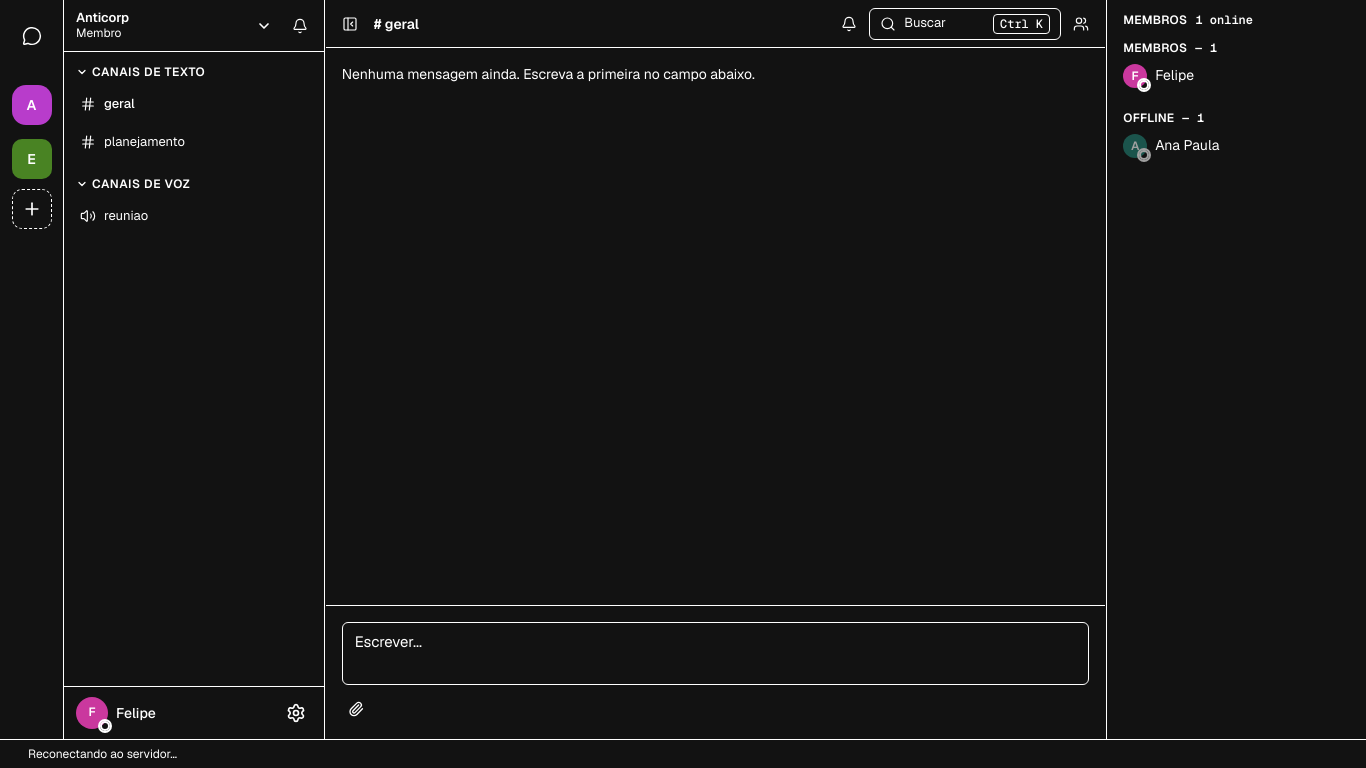
it: paleta de comandos › quem divide dois grupos comigo aparece uma vez só
This screenshot has width=1366, height=768.
Type keys "{Control>}k{/Control}"
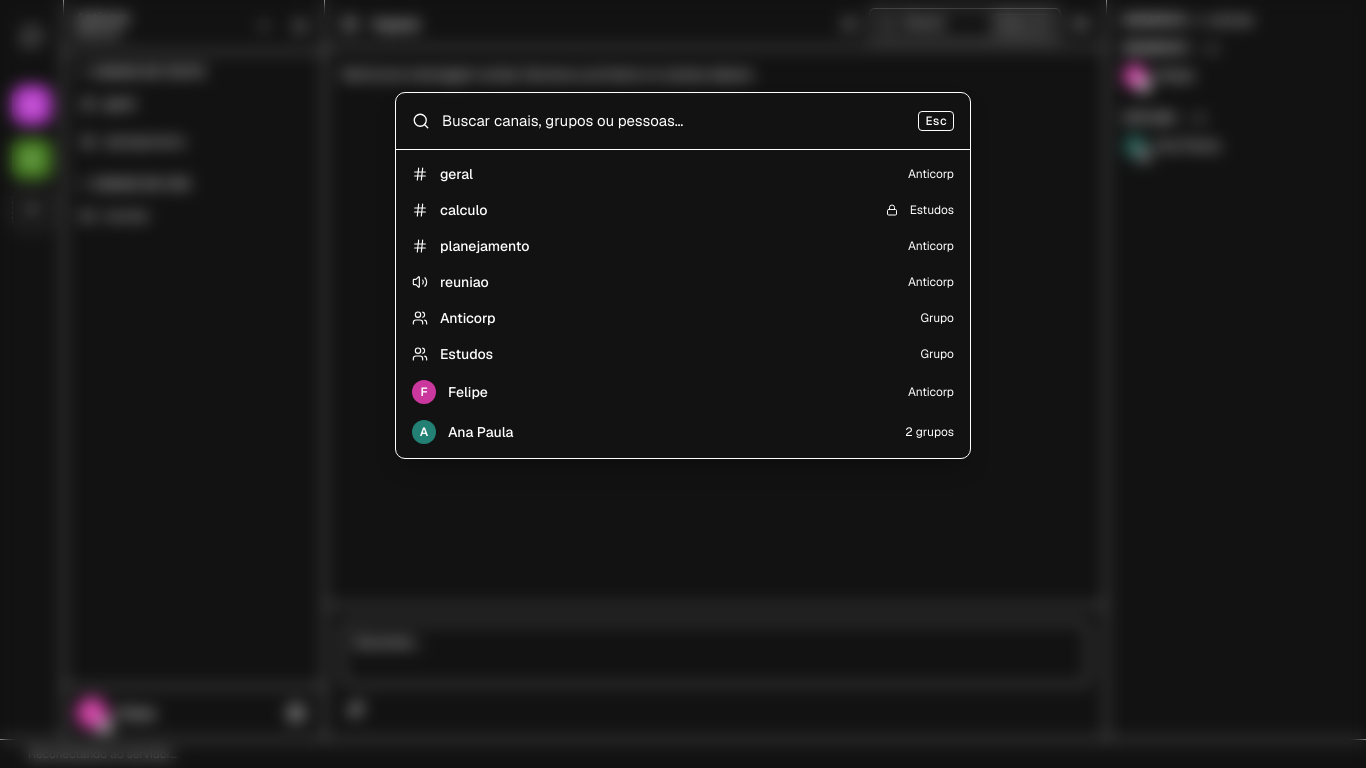
Type "ana" into the dropdown labelled "Buscar canais, grupos ou pessoas" at (674, 121), box [442, 93, 906, 149]
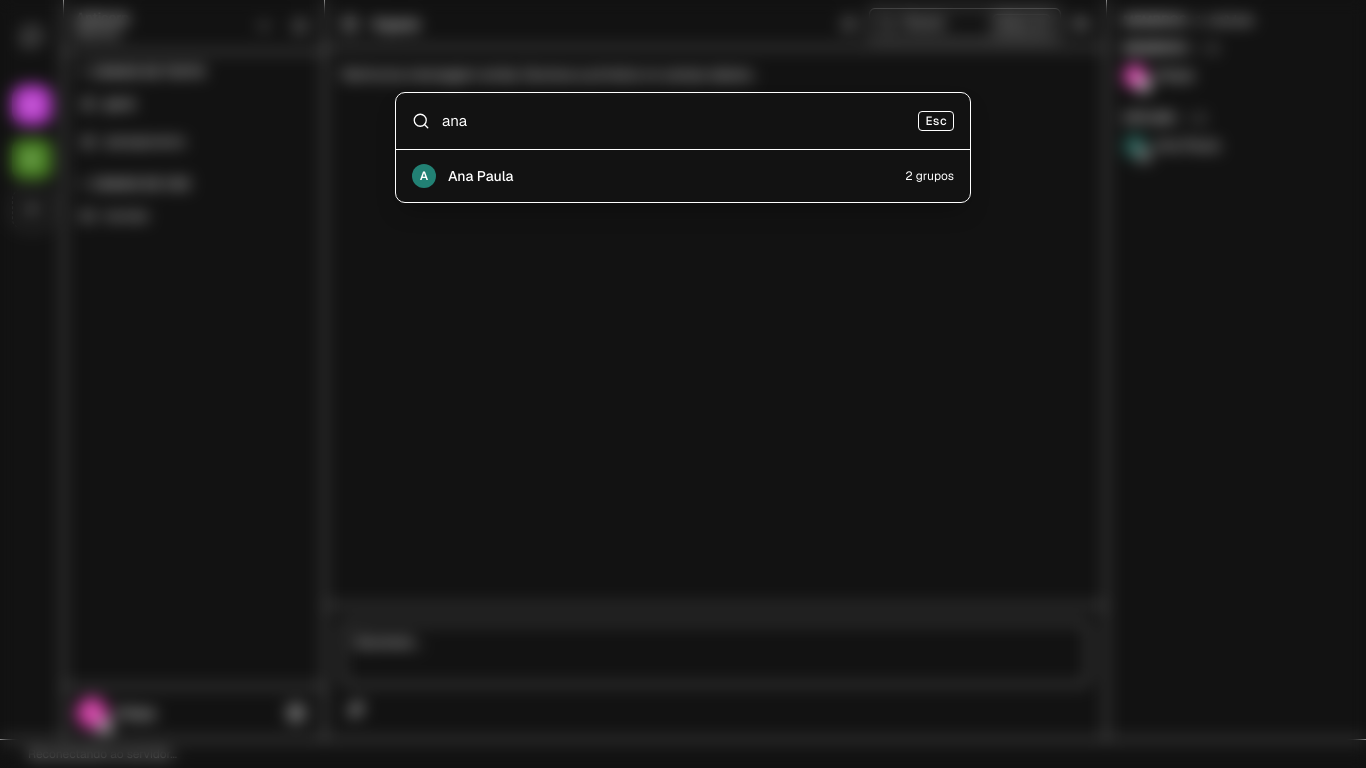
Now the option "A Ana Paula 2 grupos" is shown, box [402, 156, 964, 196]
Now the number of options "A Ana Paula 2 grupos" is 1, box [402, 156, 964, 196]
